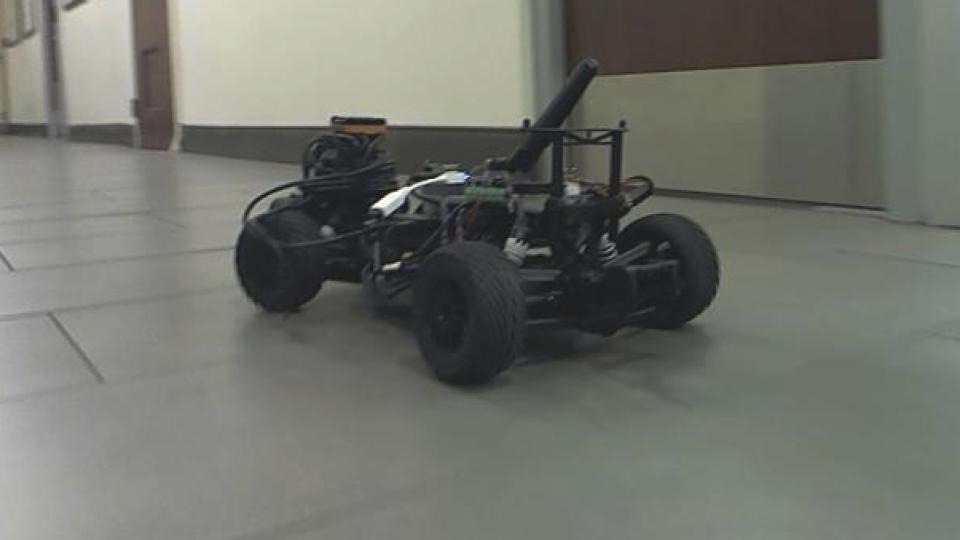car: (230, 55, 723, 388)
